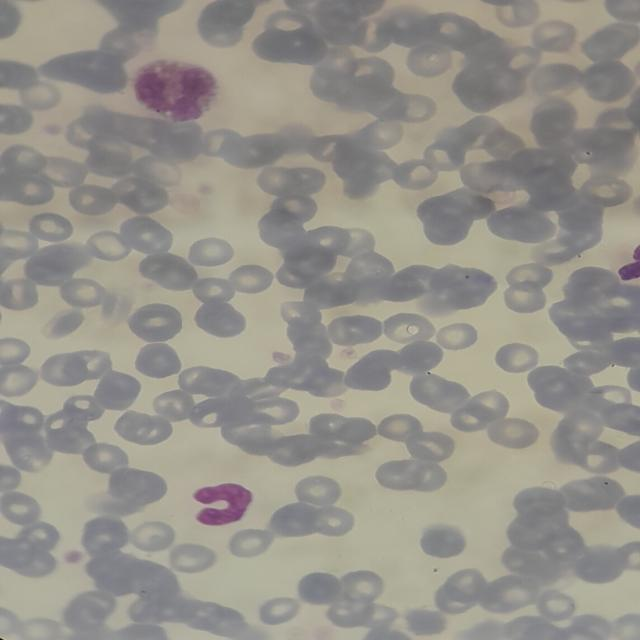Neutrofilo: (134, 59, 219, 123)
